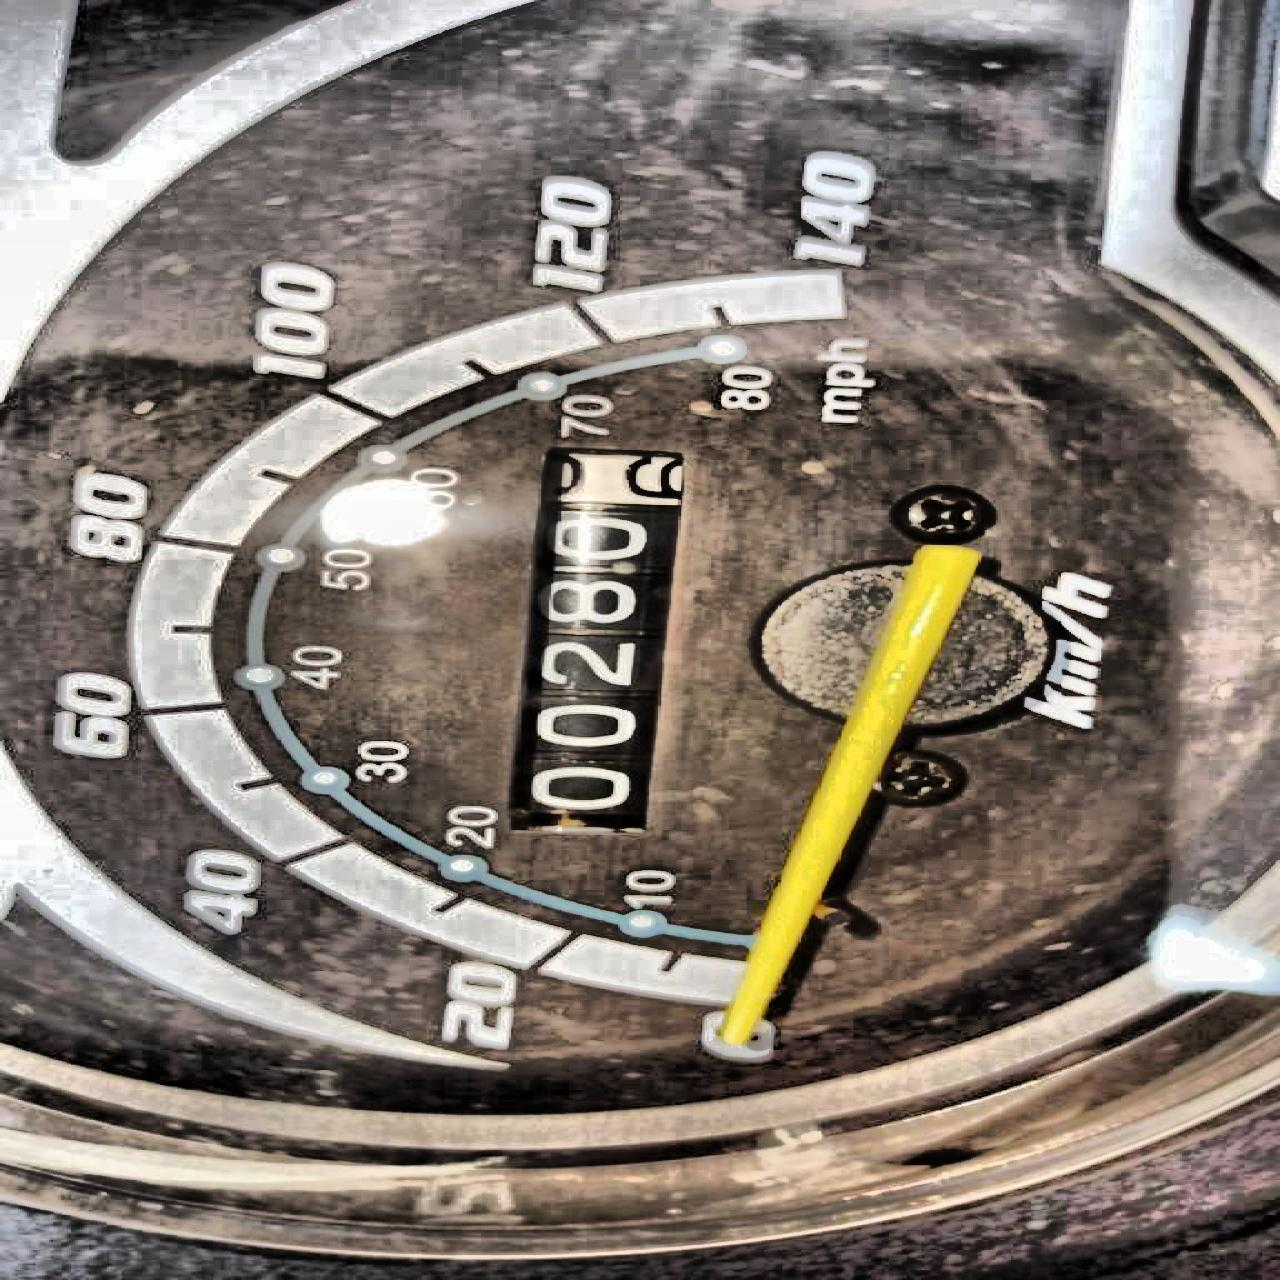0: (522, 699, 651, 749), (536, 512, 654, 563), (523, 767, 638, 813)
2: (536, 639, 654, 685)
6: (618, 450, 704, 498)
8: (526, 576, 647, 624)
odometer: (496, 443, 704, 838)
